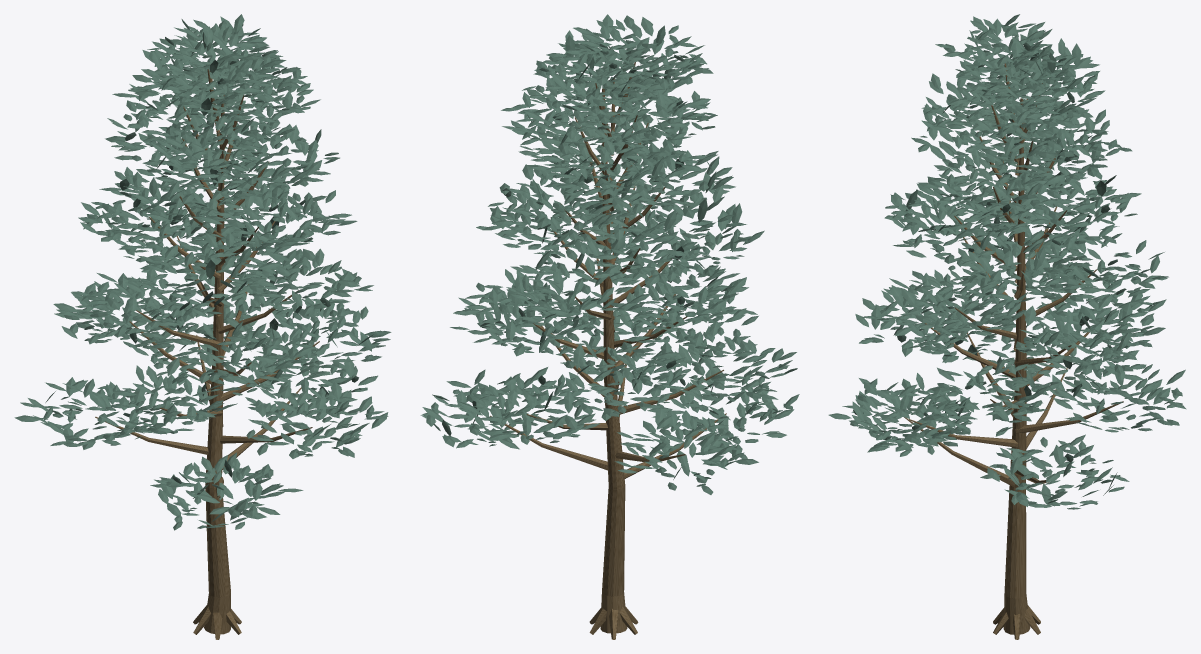
The model's file is Tree7.fbx.
3 views of the same model, side by side, from view 1: azimuth 30°, elevation 25°; view 2: azimuth 150°, elevation 25°; view 3: azimuth 270°, elevation 25° (orthographic).
Parts seen in each view (by area): view 1: Tree7_LOD0; view 2: Tree7_LOD0; view 3: Tree7_LOD0.
Part boxes in pixels (x1=…): Tree7_LOD0: x1=14, y1=14, x2=391, y2=639; Tree7_LOD0: x1=420, y1=14, x2=799, y2=639; Tree7_LOD0: x1=828, y1=14, x2=1186, y2=639.
Size of what is drawn, in the model's own units: 467 by 836 by 457.
Materials: 1 (1 with a texture image).
